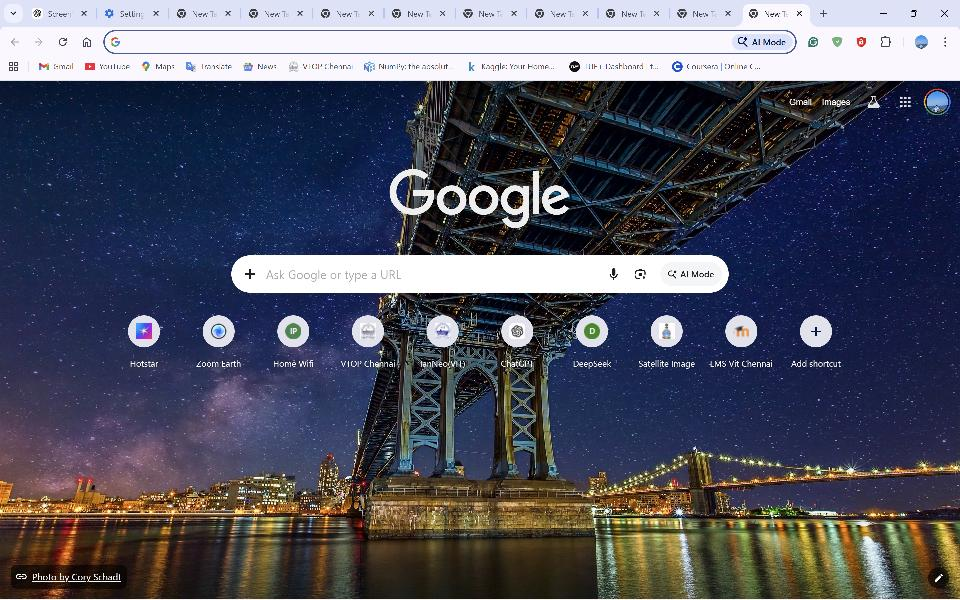close_button: (934, 4, 955, 22)
maximize_button: (904, 4, 926, 24)
minimize_button: (871, 3, 896, 24)
